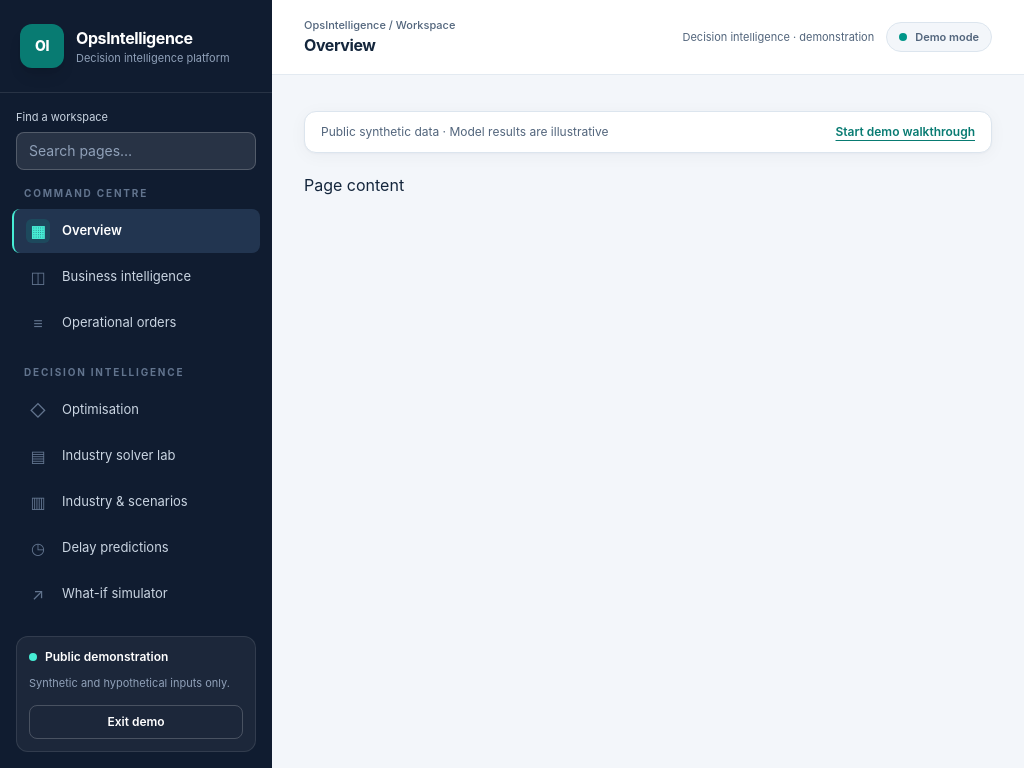
Test: filters sidebar destinations by name without changing workspace mode
Type "solver" into the search field labelled "Find a workspace" at (136, 150), box x1=16 y1=132 x2=256 y2=170
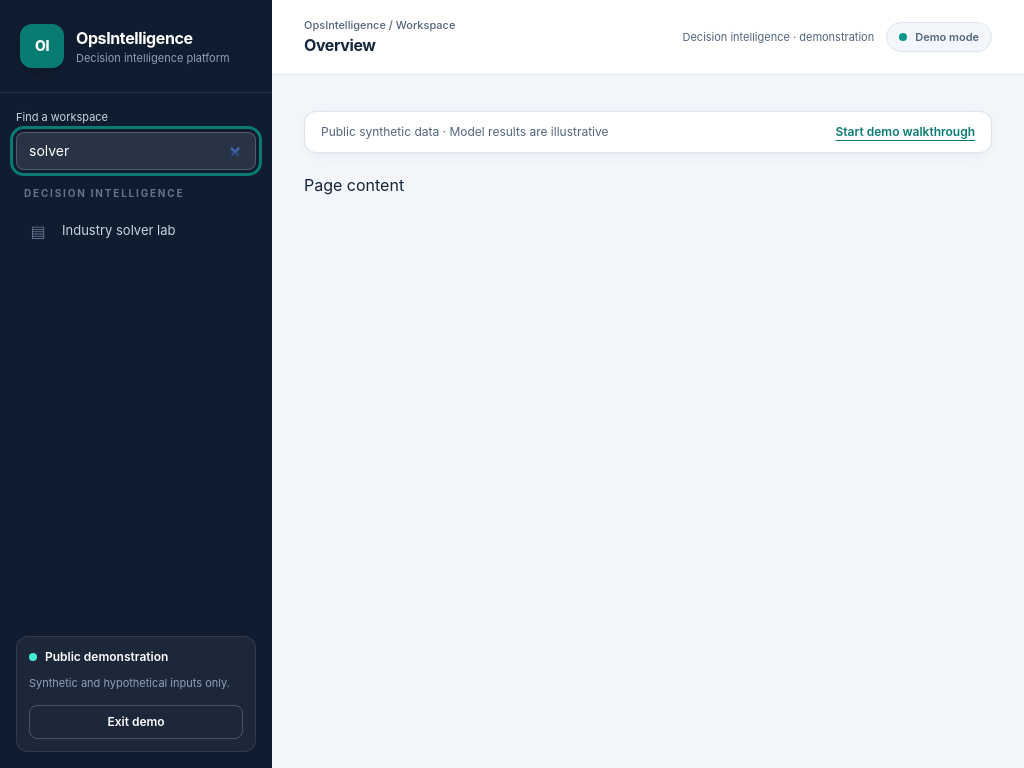
Expected: the number of links "▤ Industry solver lab" is 1, x1=30 y1=220 x2=175 y2=240
Expected: the link "Operational orders" is gone
